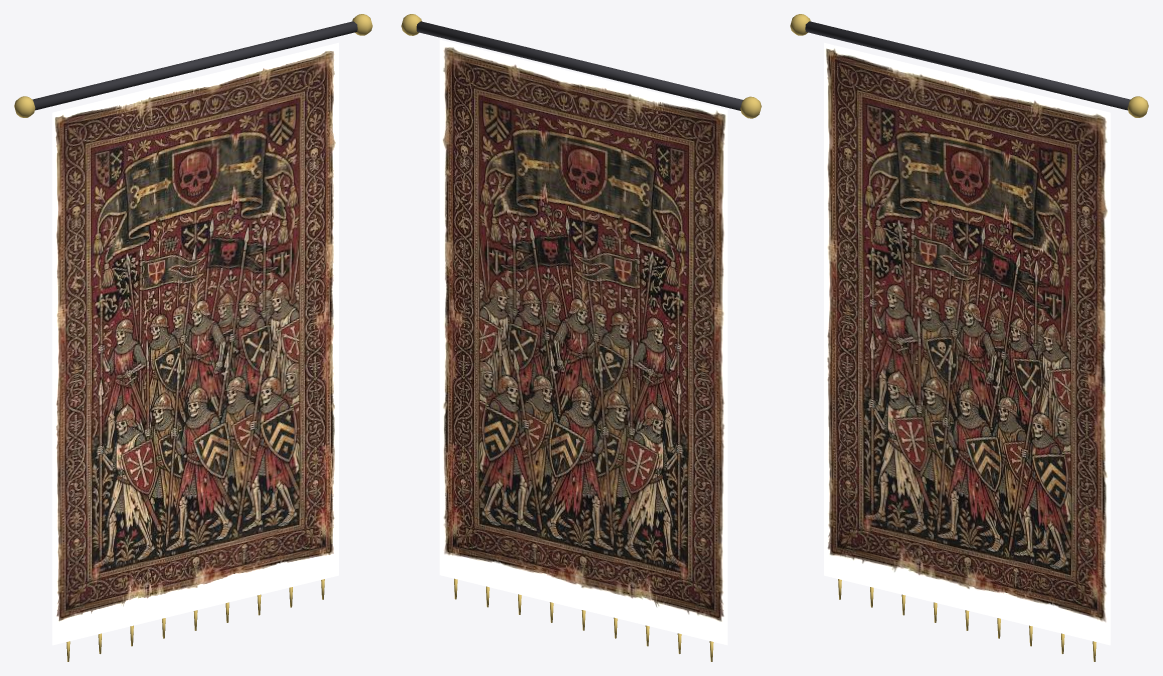
File: art_tapestry_skeleton_ranks.glb
3 views of the same model, side by side, from view 1: azimuth 30°, elevation 25°; view 2: azimuth 150°, elevation 25°; view 3: azimuth 330°, elevation 25° (orthographic).
Visible parts, largest first — view 1: GD_art_tapestry_skeleton_ranks__m0, GD_art_tapestry_skeleton_ranks__m1, GD_art_tapestry_skeleton_ranks__m2; view 2: GD_art_tapestry_skeleton_ranks__m0, GD_art_tapestry_skeleton_ranks__m1, GD_art_tapestry_skeleton_ranks__m2; view 3: GD_art_tapestry_skeleton_ranks__m0, GD_art_tapestry_skeleton_ranks__m1, GD_art_tapestry_skeleton_ranks__m2.
Boxes of the visible parts, <box> form: GD_art_tapestry_skeleton_ranks__m0: <box>52,42,338,645</box>; GD_art_tapestry_skeleton_ranks__m1: <box>32,21,357,110</box>; GD_art_tapestry_skeleton_ranks__m2: <box>14,14,372,661</box>; GD_art_tapestry_skeleton_ranks__m0: <box>439,39,727,645</box>; GD_art_tapestry_skeleton_ranks__m1: <box>416,21,742,110</box>; GD_art_tapestry_skeleton_ranks__m2: <box>401,14,761,661</box>; GD_art_tapestry_skeleton_ranks__m0: <box>824,42,1110,645</box>; GD_art_tapestry_skeleton_ranks__m1: <box>805,21,1130,110</box>; GD_art_tapestry_skeleton_ranks__m2: <box>790,14,1148,661</box>.
Size of the model in its own units: 1.12 by 1.72 by 0.06.
Materials: 3 (1 with a texture image).
